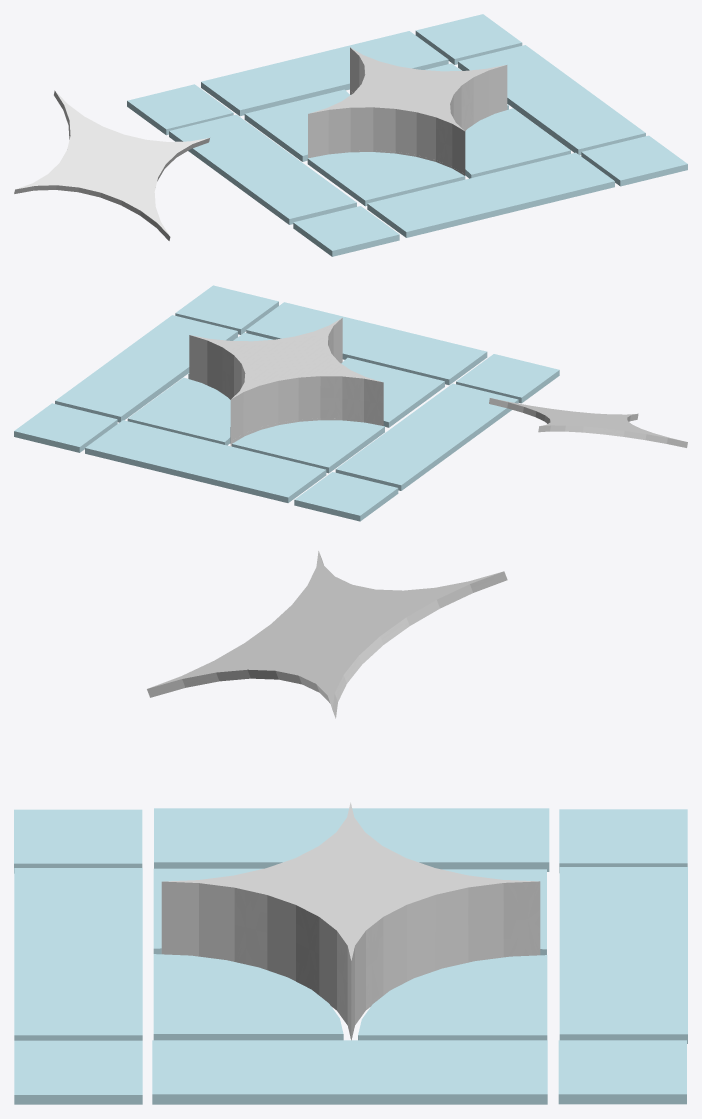
File: pieceDragAndDrop_v01.glb
3 views of the same model, one above another, from view 1: azimuth 30°, elevation 25°; view 2: azimuth 150°, elevation 25°; view 3: azimuth 270°, elevation 25° (orthographic). The views are drawn at different scales.
Visible parts, largest first — view 1: zoneDragAndDrop, vitrailFinal08, drag, vitrailFinal06, vitrailFinal02, vitrailFinal04, vitrailFinal12, vitrailFinal09, vitrailFinal07, vitrailFinal01, vitrailFinal03, vitrailFinal05 (+2 smaller); view 2: zoneDragAndDrop, vitrailFinal04, vitrailFinal06, vitrailFinal02, vitrailFinal08, vitrailFinal11, vitrailFinal10, vitrailFinal05, vitrailFinal03, drag, vitrailFinal07, vitrailFinal01 (+2 smaller); view 3: zoneDragAndDrop, vitrailFinal02, vitrailFinal04, vitrailFinal08, vitrailFinal06, drag, vitrailFinal09, vitrailFinal10, vitrailFinal01, vitrailFinal03, vitrailFinal07, vitrailFinal05 (+2 smaller).
Part boxes in pixels (bbox=[...]): zoneDragAndDrop: bbox=[308, 47, 507, 173]; vitrailFinal08: bbox=[367, 152, 614, 237]; drag: bbox=[14, 90, 209, 240]; vitrailFinal06: bbox=[169, 114, 356, 224]; vitrailFinal02: bbox=[458, 45, 645, 155]; vitrailFinal04: bbox=[201, 31, 448, 116]; vitrailFinal12: bbox=[307, 152, 465, 206]; vitrailFinal09: bbox=[465, 108, 570, 178]; vitrailFinal07: bbox=[293, 206, 399, 256]; vitrailFinal01: bbox=[581, 135, 687, 186]; vitrailFinal03: bbox=[415, 14, 522, 64]; vitrailFinal05: bbox=[127, 84, 233, 135]; zoneDragAndDrop: bbox=[189, 318, 383, 443]; vitrailFinal04: bbox=[85, 420, 326, 502]; vitrailFinal06: bbox=[335, 383, 518, 490]; vitrailFinal02: bbox=[55, 315, 237, 422]; vitrailFinal08: bbox=[246, 302, 487, 384]; vitrailFinal11: bbox=[232, 420, 384, 473]; vitrailFinal10: bbox=[127, 377, 230, 445]; vitrailFinal05: bbox=[294, 472, 398, 521]; vitrailFinal03: bbox=[14, 403, 117, 452]; drag: bbox=[489, 398, 687, 447]; vitrailFinal07: bbox=[456, 354, 559, 403]; vitrailFinal01: bbox=[175, 285, 278, 334]; zoneDragAndDrop: bbox=[161, 802, 540, 1035]; vitrailFinal02: bbox=[152, 1040, 547, 1104]; vitrailFinal04: bbox=[559, 867, 687, 1043]; vitrailFinal08: bbox=[14, 868, 142, 1040]; vitrailFinal06: bbox=[154, 808, 549, 871]; drag: bbox=[147, 551, 507, 718]; vitrailFinal09: bbox=[153, 954, 343, 1040]; vitrailFinal10: bbox=[358, 955, 547, 1040]; vitrailFinal01: bbox=[14, 1040, 142, 1104]; vitrailFinal03: bbox=[558, 1040, 686, 1104]; vitrailFinal07: bbox=[14, 809, 142, 873]; vitrailFinal05: bbox=[559, 809, 687, 872].
Bounding box in the file's own units: 0.6863 × 0.1 × 0.4202.
